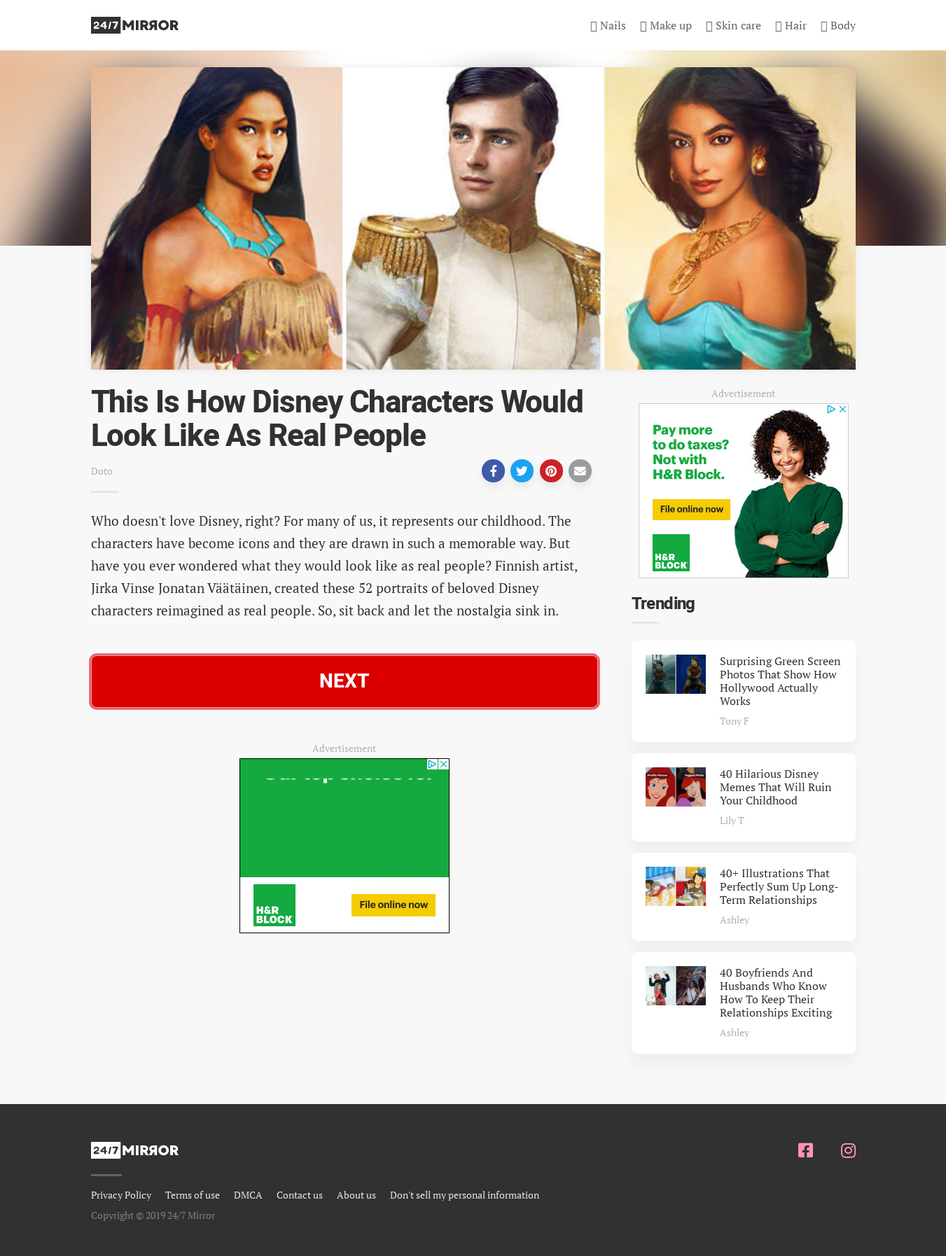fake_button: (74, 637, 618, 735)
